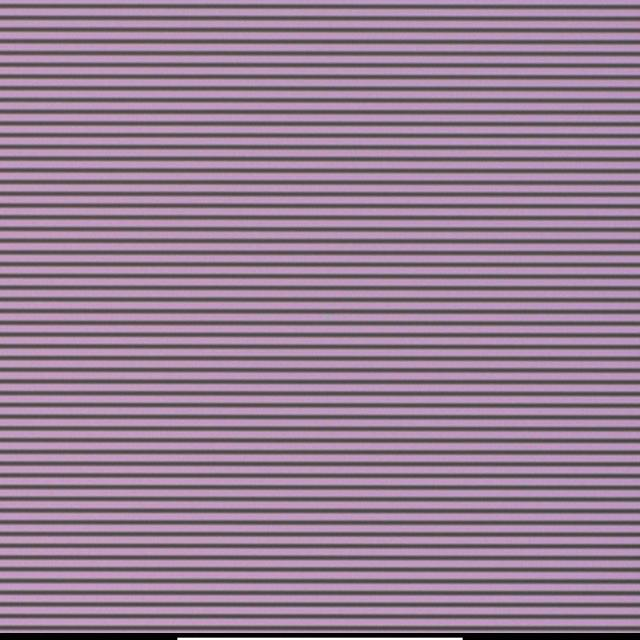nonvisual: (358, 312, 366, 318)
